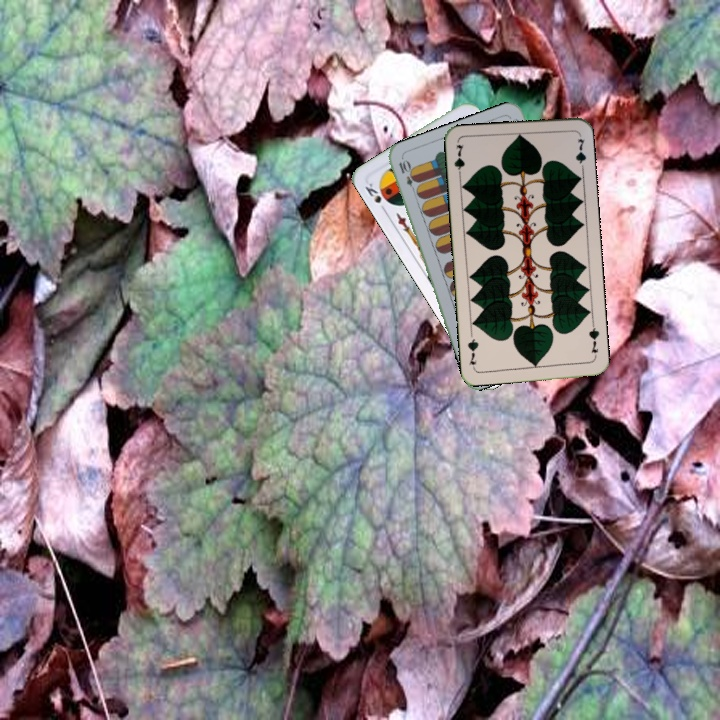E10: (395, 156, 419, 196)
G7: (450, 140, 467, 181), (585, 320, 602, 361)
SK: (361, 179, 389, 215)
